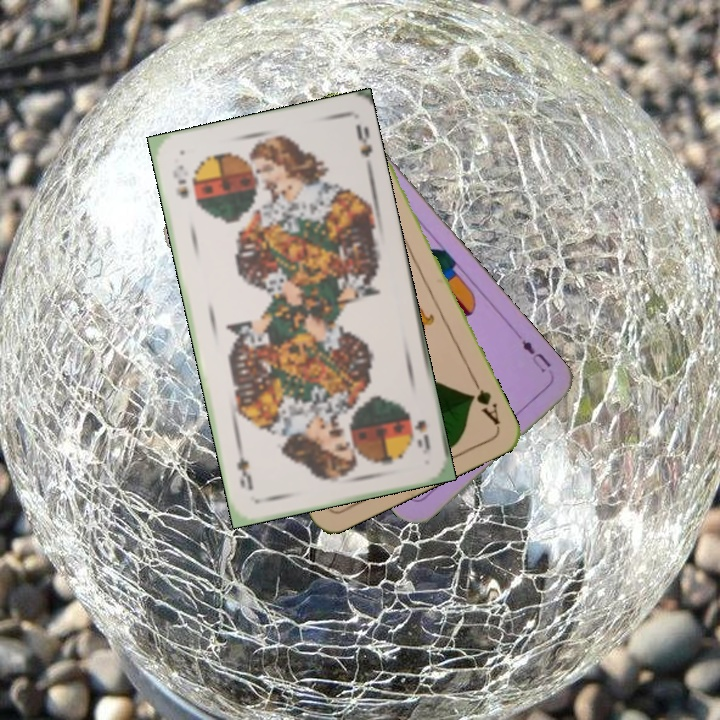EU: (517, 336, 554, 376)
GA: (465, 373, 503, 428)
SO: (405, 407, 433, 454), (173, 160, 191, 202)
